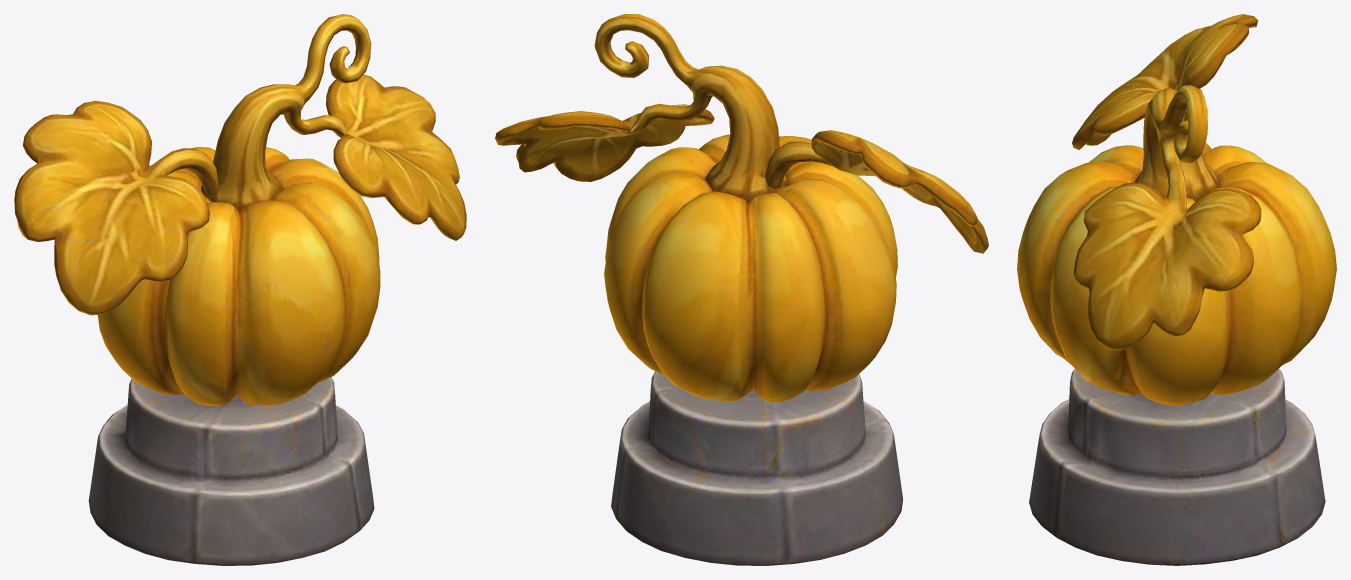
Rendered from cup_crop.glb.
The picture shows the model from 3 angles, left to right: view 1: azimuth 30°, elevation 25°; view 2: azimuth 150°, elevation 25°; view 3: azimuth 270°, elevation 25°; orthographic projection. The views are drawn at different scales.
Size of the model in its own units: 1 by 1 by 0.6153.
1 material, 1 textured.
